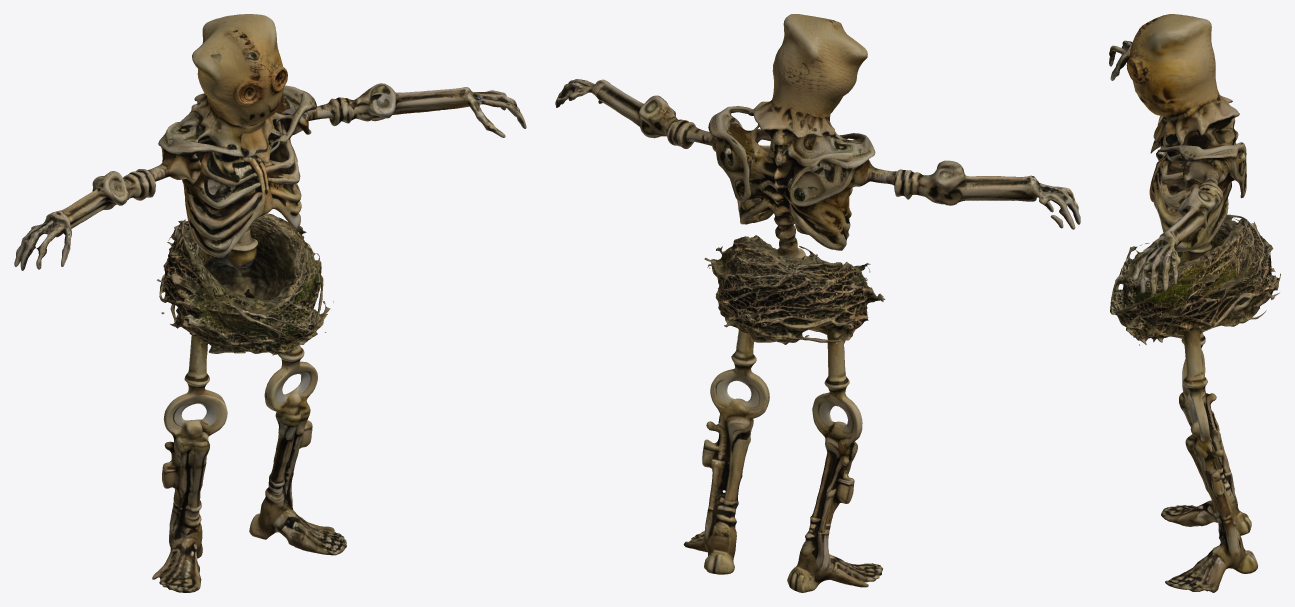
Rendered from Keeper_of_the_Rust.glb.
The picture shows the model from 3 angles, left to right: view 1: azimuth 30°, elevation 25°; view 2: azimuth 150°, elevation 25°; view 3: azimuth 270°, elevation 25°; orthographic projection. The views are drawn at different scales.
Parts seen in each view (by area): view 1: KeySkeletonScarecrow; view 2: KeySkeletonScarecrow; view 3: KeySkeletonScarecrow.
Part boxes in pixels (x1,y1,x2,y2): KeySkeletonScarecrow: (14,14,526,592); KeySkeletonScarecrow: (555,14,1080,592); KeySkeletonScarecrow: (1109,14,1280,592).
Bounding box in the file's own units: 0.9804 × 1 × 0.2972.
1 material, 1 textured.
